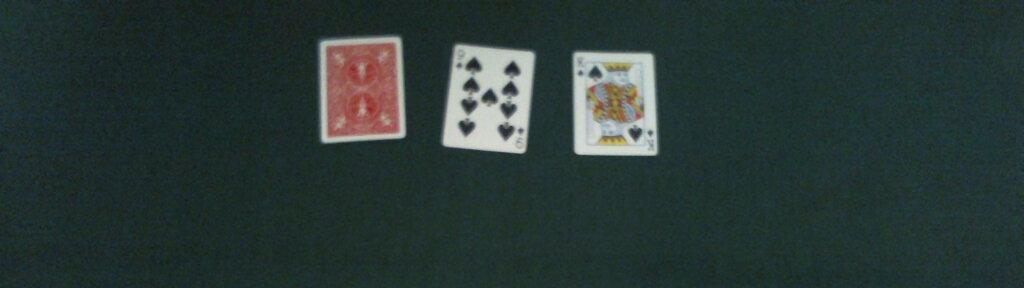back: (318, 35, 407, 143)
king: (571, 49, 658, 154)
nine: (441, 44, 536, 152)
